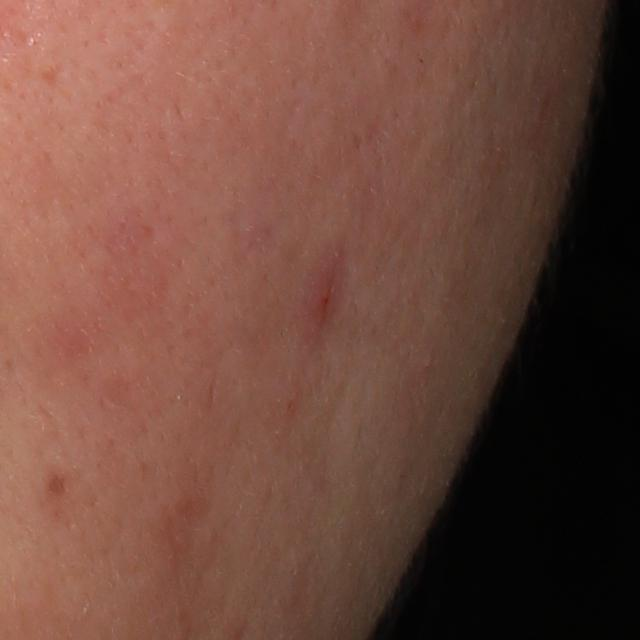papule: (302, 271, 345, 327)
